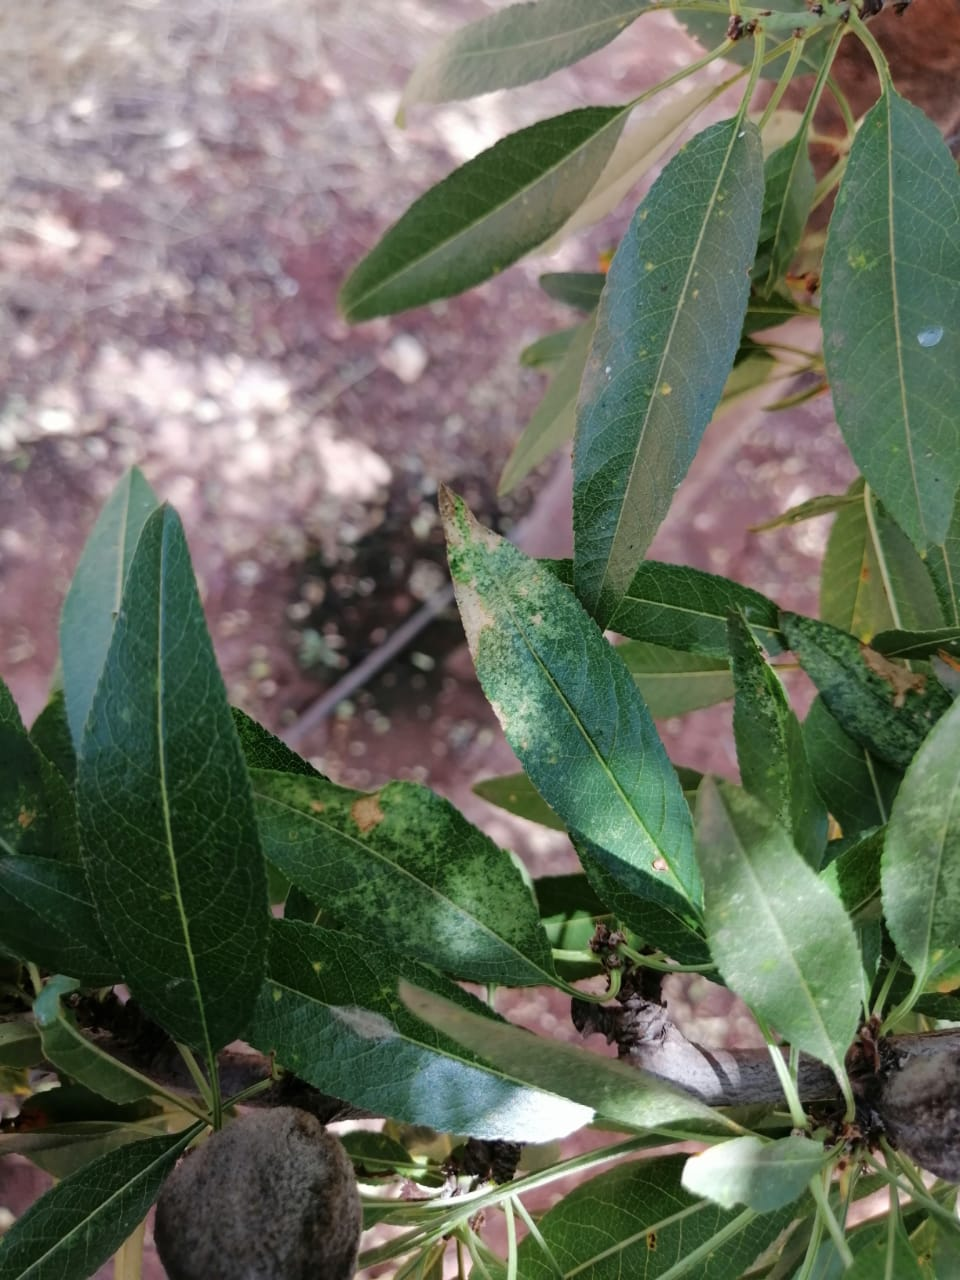faux tigre: (429, 475, 709, 935), (230, 763, 567, 990)
